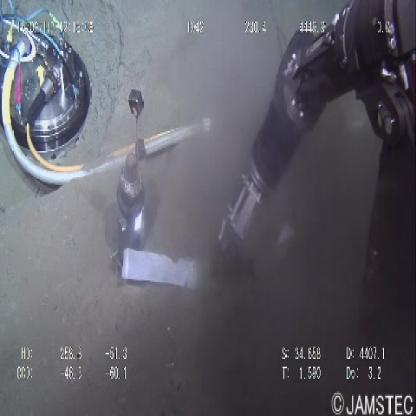Rov: (215, 1, 415, 263), (1, 2, 93, 188), (106, 79, 150, 271)
Rác: (119, 248, 221, 288)
